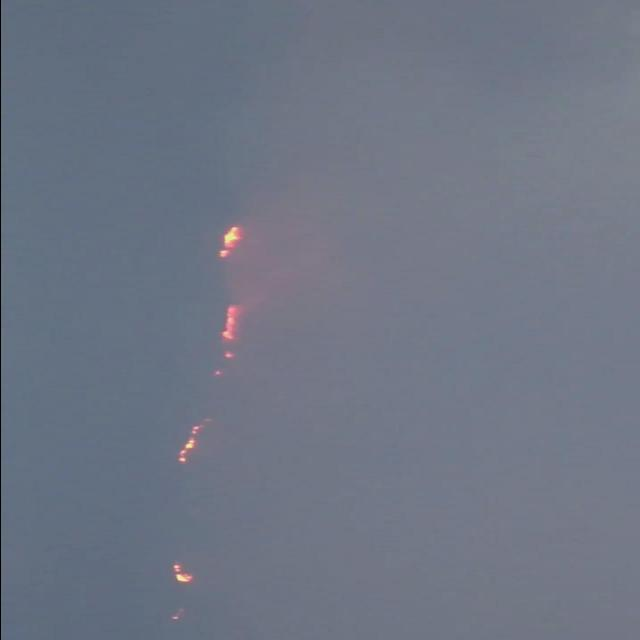Fire: (174, 413, 212, 462), (216, 224, 242, 258), (222, 304, 240, 340), (172, 562, 192, 582)
